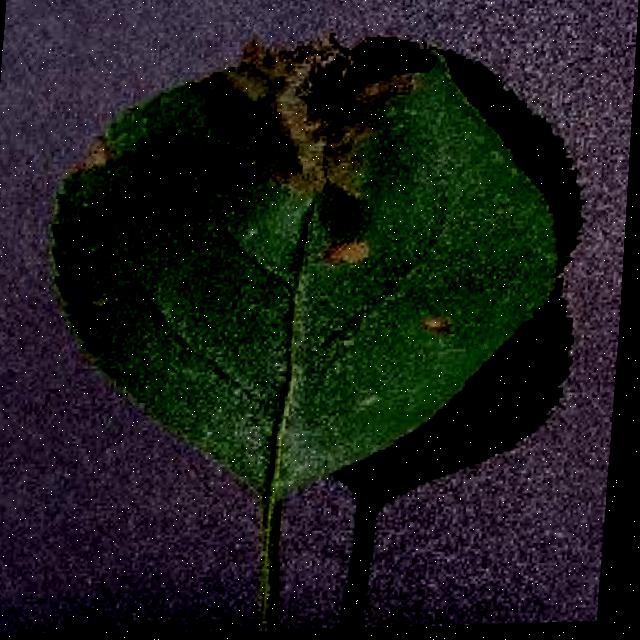black_rot: (181, 20, 459, 197), (316, 226, 381, 275), (70, 128, 117, 179), (416, 304, 460, 347)
